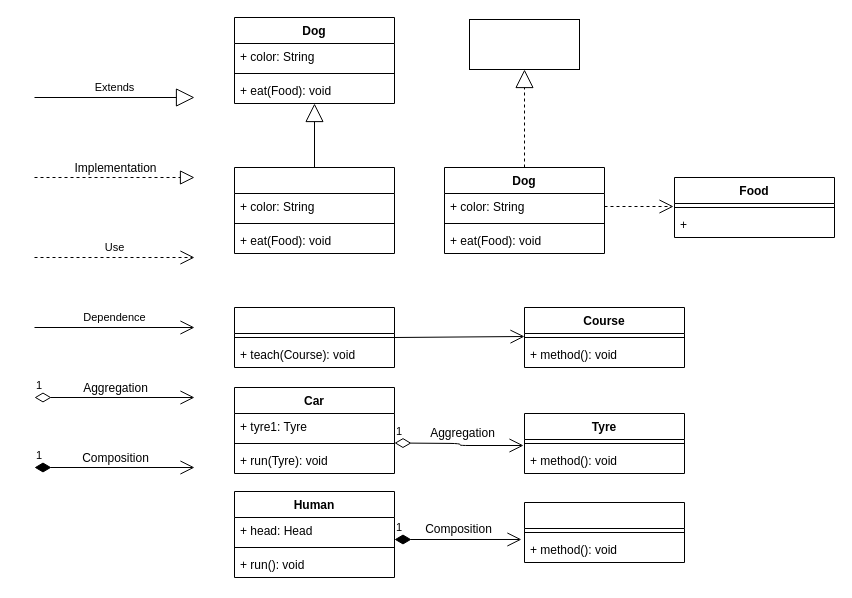
Image size: 852x598. Some labels were removed from this diagram. Each missing label, with the box of its shape:
ConcreteDog: (234, 166, 394, 254)
Head: (524, 502, 684, 562)
Teacher: (234, 306, 394, 368)
«interface» Animal: (468, 18, 580, 70)
